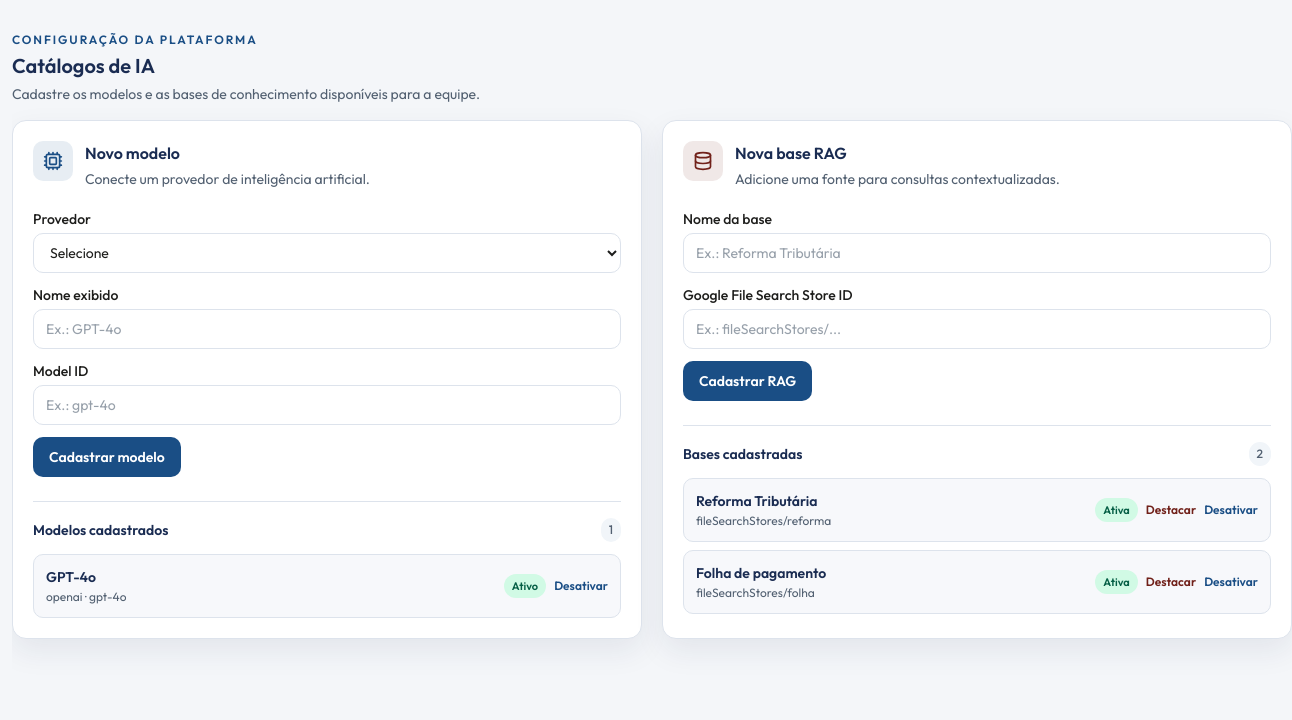
Test case: CatalogPanel › clears the previous local highlight when the backend highlights another base
Check: the text "Folha de pagamento" is shown, box x1=696 y1=563 x2=826 y2=583
What coordinates should you click on to do the following:
click the button with aria-label "Destacar Folha de pagamento"
I would click on:
 (1171, 582)
Its box is x1=1146 y1=574 x2=1196 y2=590.
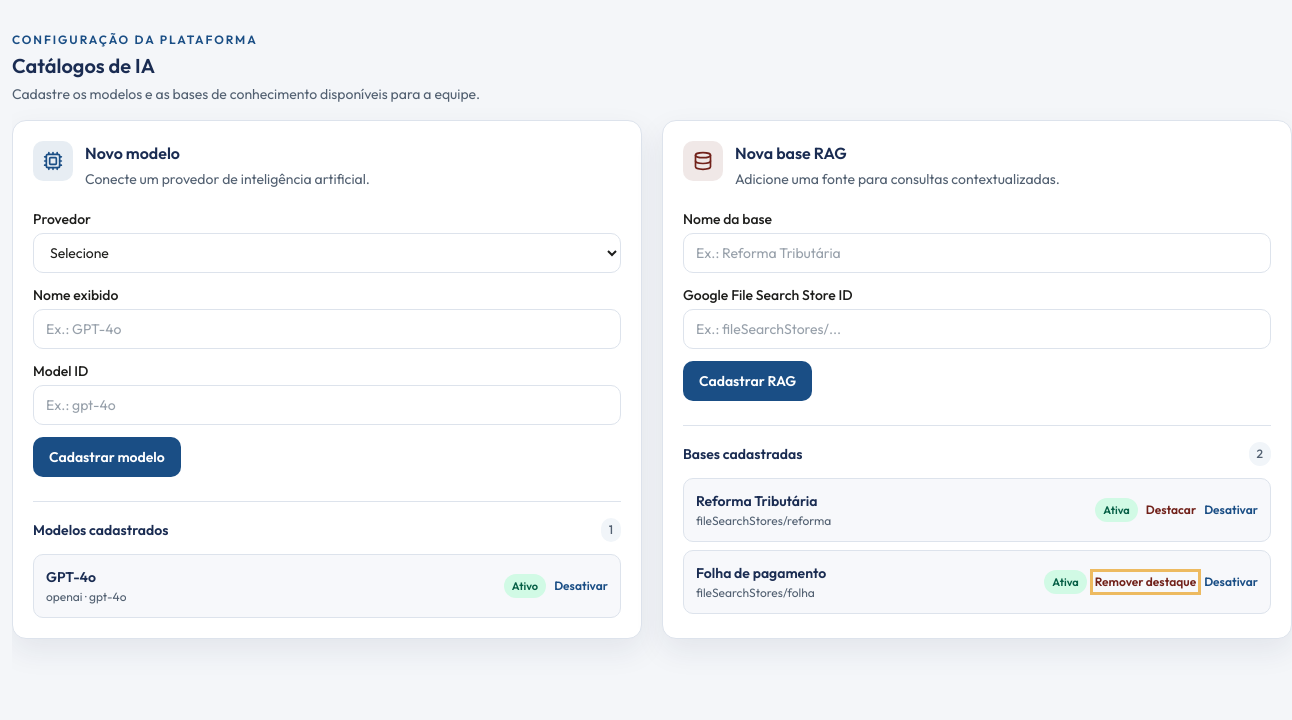
Check: the button with aria-label "Destacar Reforma Tributária" is shown, box x1=1146 y1=502 x2=1196 y2=518
Check: the button with aria-label "Remover destaque de Folha de pagamento" is shown, box x1=1095 y1=574 x2=1196 y2=590
